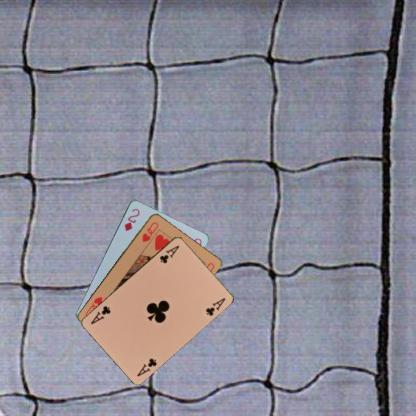2d: (121, 206, 141, 232)
Ac: (134, 356, 158, 378), (157, 242, 180, 264)
Qh: (140, 219, 160, 243)
